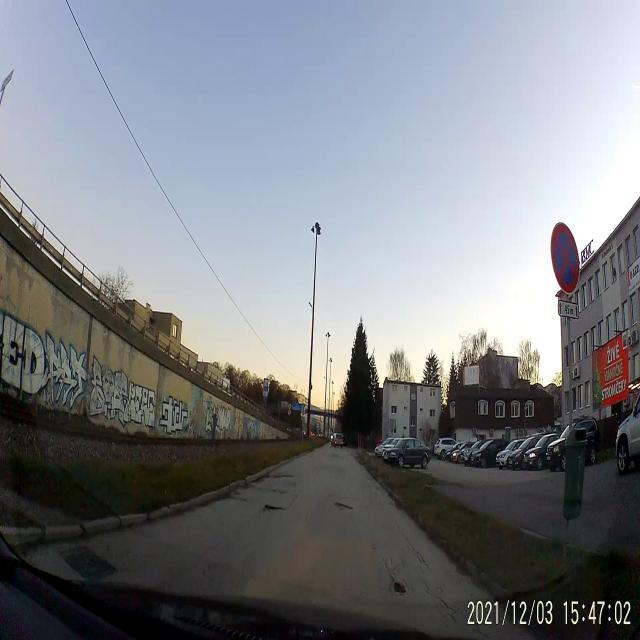Manhole: (57, 543, 116, 581)
Pothole: (389, 574, 407, 596), (334, 498, 356, 514), (262, 502, 288, 515)
